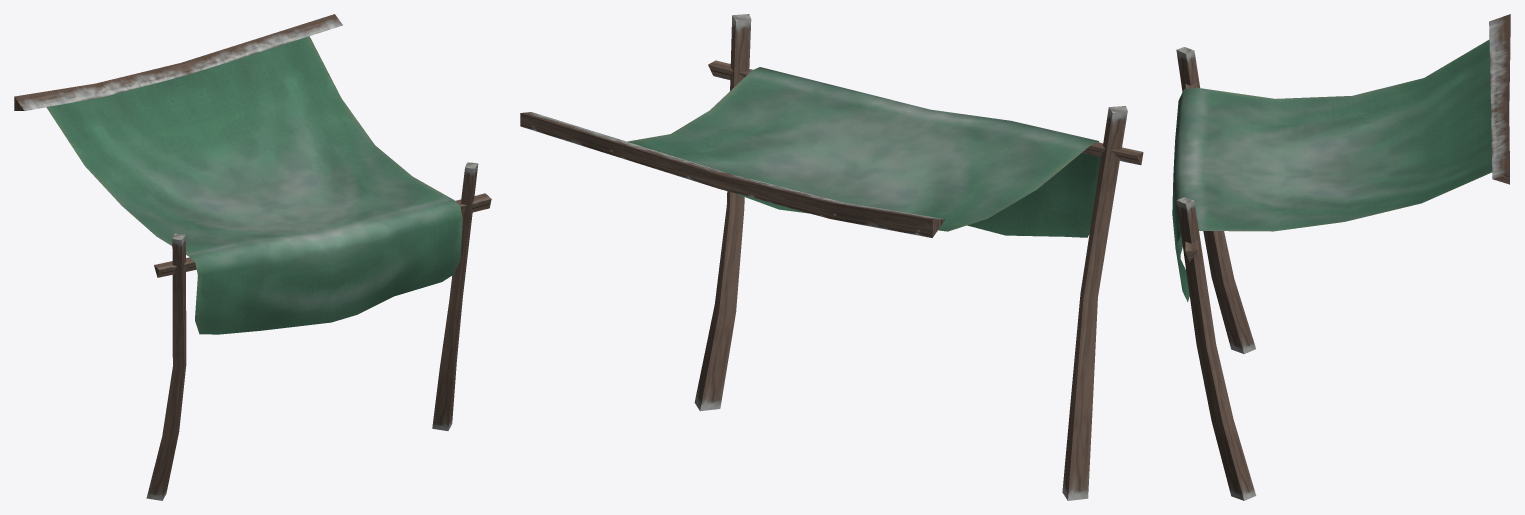
Rendered from snow_a_r08.fbx.
The picture shows the model from 3 angles, left to right: view 1: azimuth 30°, elevation 25°; view 2: azimuth 150°, elevation 25°; view 3: azimuth 270°, elevation 25°; orthographic projection. The views are drawn at different scales.
Visible parts, largest first — view 1: snow_a_r08; view 2: snow_a_r08; view 3: snow_a_r08.
Boxes of the visible parts, <box> form: snow_a_r08: <box>14,14,491,500</box>; snow_a_r08: <box>520,14,1143,500</box>; snow_a_r08: <box>1172,14,1510,500</box>.
Size of the model in its own units: 396 by 359 by 331.
